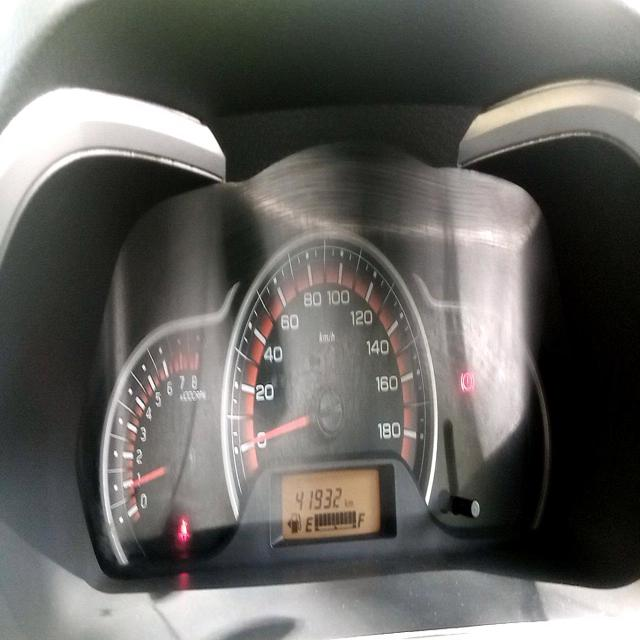odometer: (295, 484, 344, 512)
